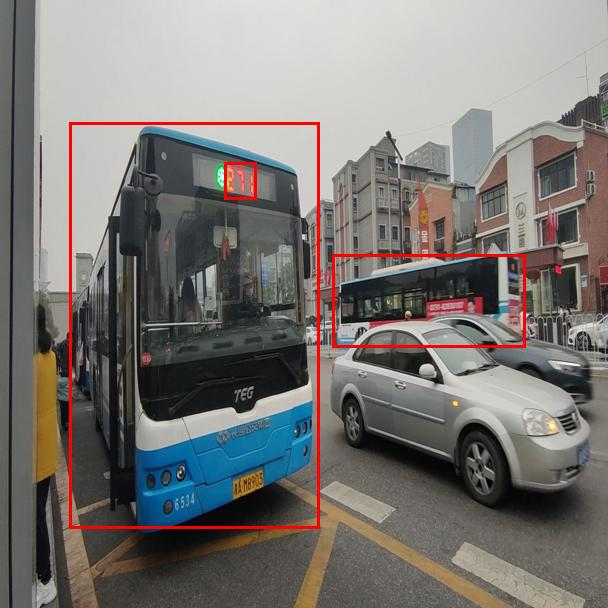bus: (69, 122, 319, 528), (332, 254, 525, 347)
screen: (224, 162, 256, 199)
